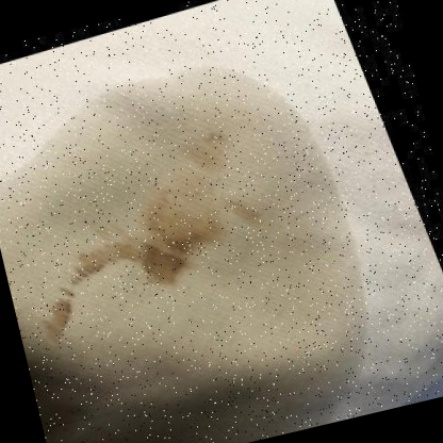coffee: (0, 84, 363, 431)
